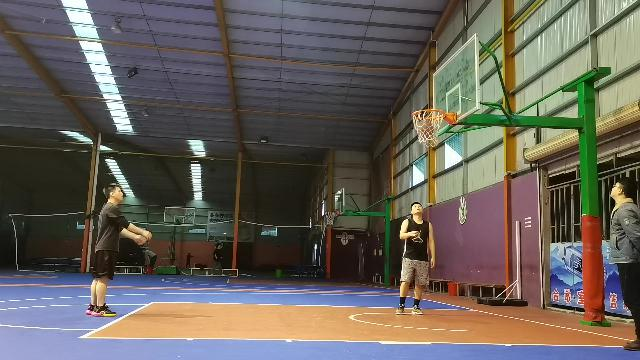basket: (410, 108, 446, 146), (324, 209, 336, 224)
goal: (418, 119, 434, 136)
